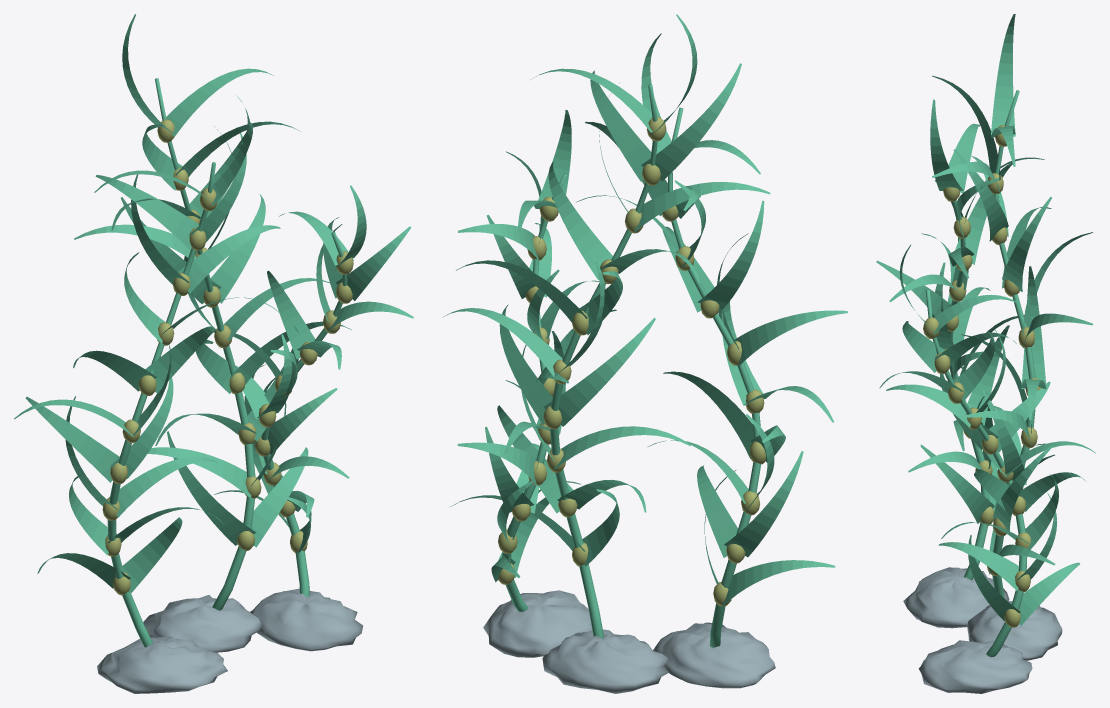
The model's file is underwater-reef-worlds-kelp-forest-clump-bf2fd8c3__7035.glb.
3 views of the same model, side by side, from view 1: azimuth 30°, elevation 25°; view 2: azimuth 150°, elevation 25°; view 3: azimuth 270°, elevation 25° (orthographic). The views are drawn at different scales.
Visible parts, largest first — view 1: kelp-forest-clump; view 2: kelp-forest-clump; view 3: kelp-forest-clump.
Part boxes in pixels (x1,y1,x2,y2): kelp-forest-clump: (14,14,413,693); kelp-forest-clump: (443,14,847,693); kelp-forest-clump: (876,14,1095,693).
Bounding box in the file's own units: 1.97 × 3.39 × 1.14.
